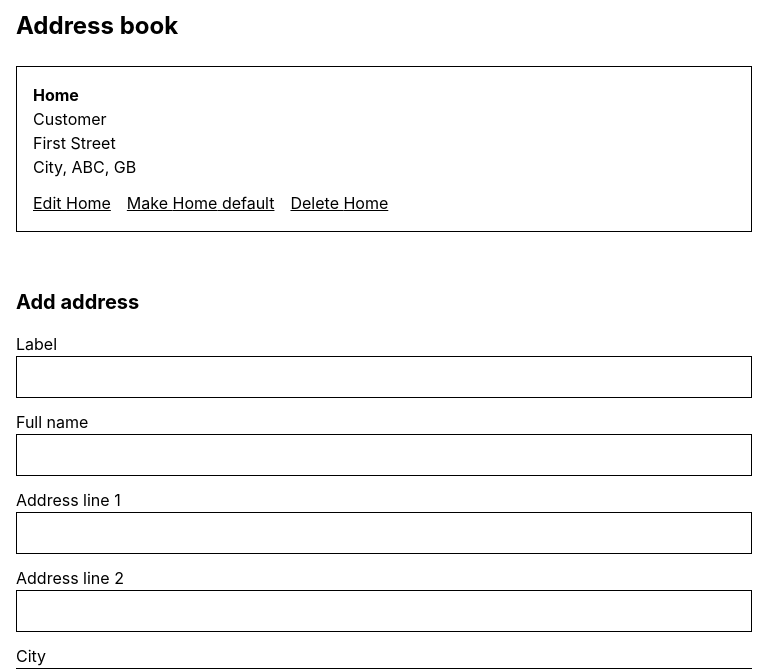
Test case: address book › sets defaults through the backend instead of changing only local state
Click the button "Make Home default" at (201, 203), box [127,191,274,215]
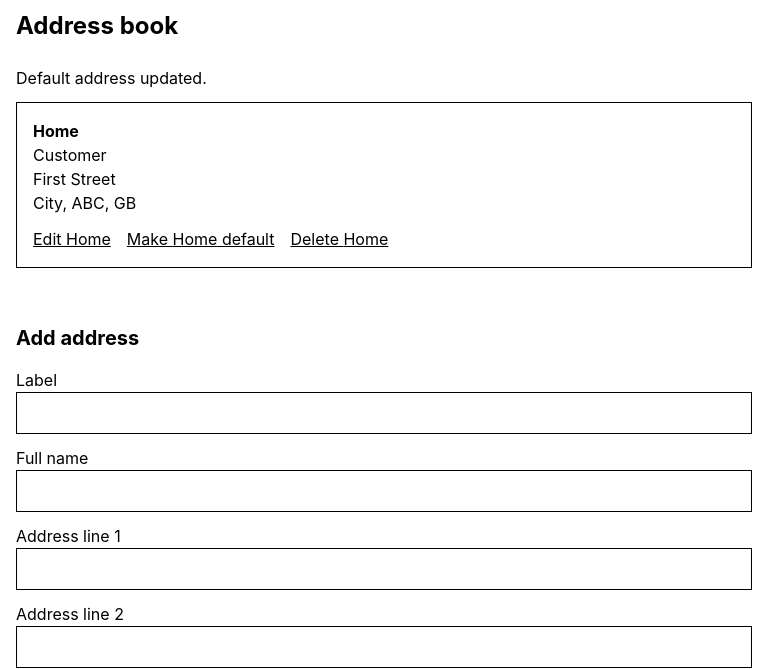
Result: the text "Default address updated." is shown at [16,68,207,88]
